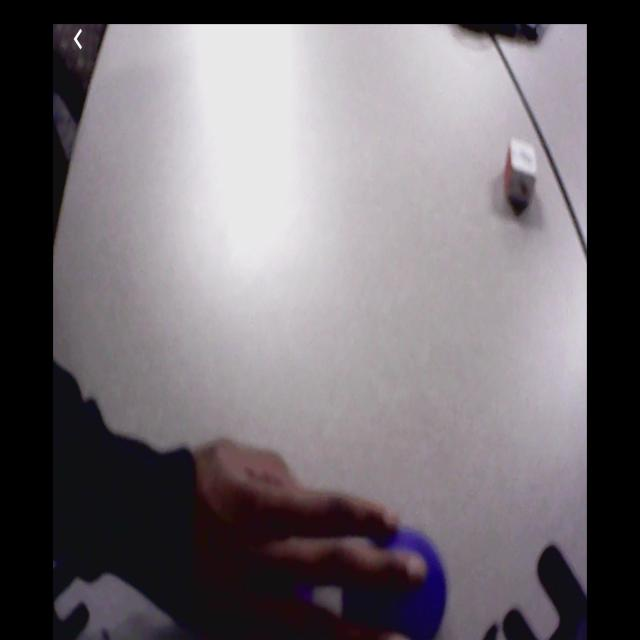ball: (347, 531, 448, 639)
